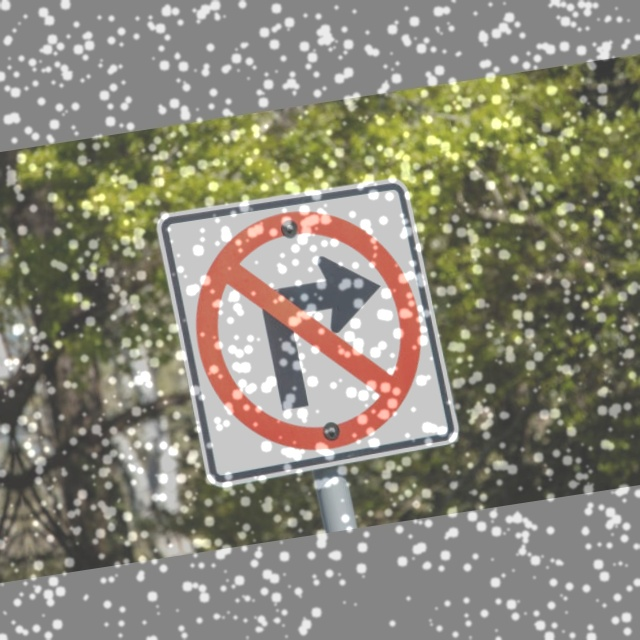Right_Turn_Prohibited: (176, 193, 445, 468)
